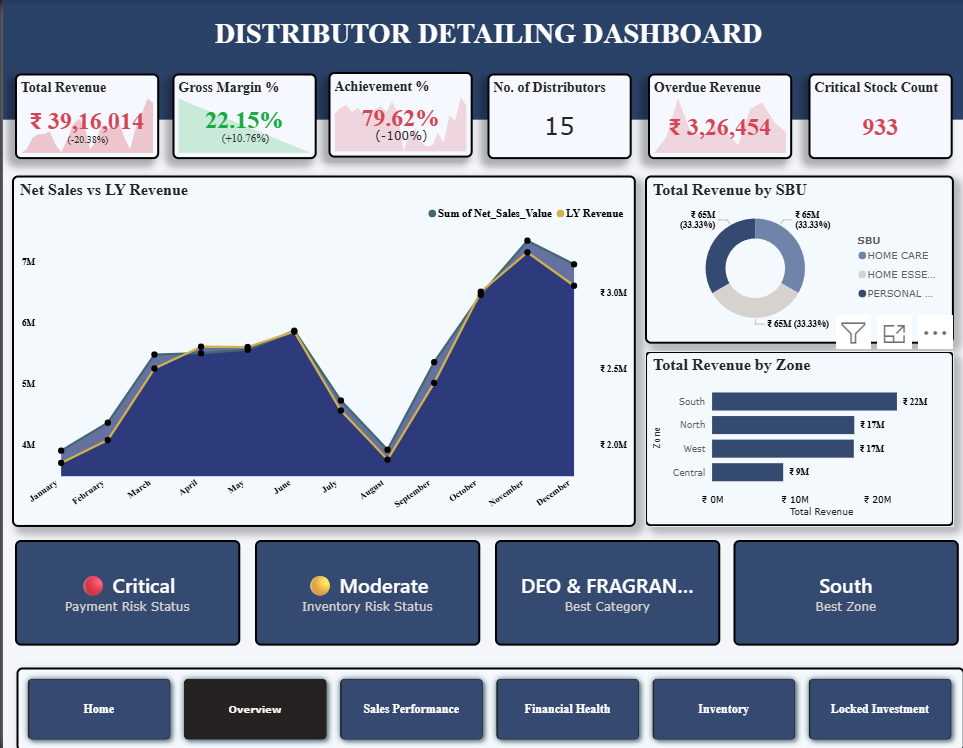

The dashboard page shown, as its layout file describes it:
{"tool":"powerbi","page":{"name":"Overview","canvas":[1280,1000],"ordinal":1},"visuals":[{"type":"textbox","box":[15.5,12.4,572.3,52.7],"z":0},{"type":"cardVisual","fields":{"Data":["Live.Live Badge"]},"box":[1094.9,12.5,161.1,61],"z":1000},{"type":"slicer","fields":{"Values":["Distributor.Zone"]},"box":[735.2,14.1,168.9,64.1],"z":2000},{"type":"slicer","fields":{"Values":["Dim_Date.Quarter"]},"box":[915,12.5,168.9,64.1],"z":3000},{"type":"areaChart","title":"Net Sales vs LY Revenue","fields":{"Category":["Dim_Date.Date.Variation.Date Hierarchy.Month"],"Y":["Sum(Raw_Sales_Revenue.Net_Sales_Value)"],"Y2":["_Measures.LY Revenue"]},"box":[12.5,233.1,830.6,467.7],"z":4000},{"type":"donutChart","fields":{"Category":["Products.SBU"],"Y":["_Measures.Total Revenue"]},"box":[854,233.1,411.4,223.7],"z":5000},{"type":"pageNavigator","box":[17.6,888.2,1262.7,111.8],"z":6000},{"type":"cardVisual","fields":{"Data":["_Measures.Inventory Risk Alert"]},"box":[335,720,300.3,140.8],"z":7000},{"type":"cardVisual","fields":{"Data":["_Measures.Payment Alert"]},"box":[15,720,300.3,140.8],"z":8000},{"type":"cardVisual","fields":{"Data":["_Measures.Best Zone"]},"box":[972,720,300.3,140.8],"z":9000},{"type":"cardVisual","fields":{"Data":["_Measures.Best Category"]},"box":[656,720,300.3,140.8],"z":10000},{"type":"barChart","fields":{"Y":["_Measures.Total Revenue"],"Category":["Raw_Sales_Revenue.Zone"]},"box":[854,467.7,411.4,233.1],"z":11000},{"type":"shape","box":[12.5,0,1249.8,92.3],"z":12000},{"type":"textbox","box":[17.7,13.8,873.9,78.7],"z":13000},{"type":"slicer","fields":{"Values":["Distirbutor.Distributor_Code"]},"box":[1094.9,14.1,184.6,65.7],"z":14000},{"type":"slicer","fields":{"Values":["Dim_Date.Date.Variation.Date Hierarchy.Month"]},"box":[915,14.1,184.6,65.7],"z":15000},{"type":"textbox","box":[0,0,1279.3,159.4],"z":16000},{"type":"kpi","title":"Total Revenue","fields":{"Indicator":["_Measures.Total Revenue"],"TrendLine":["Dim_Date.Date"],"Goal":["_Measures.Total Target"]},"box":[15.6,98,192,114],"z":17000},{"type":"kpi","title":"Gross Margin %","fields":{"Indicator":["_Measures.Gross Margin %"],"Goal":["_Measures.Target Margin"],"TrendLine":["Dim_Date.Date.Variation.Date Hierarchy.Year"]},"box":[225,98,192,114],"z":18000},{"type":"kpi","title":"Achievement %","fields":{"Indicator":["_Measures.Achievement %"],"TrendLine":["Dim_Date.Date"],"Goal":["_Measures.Total Target"]},"box":[434,95,192,114.2],"z":19000},{"type":"kpi","title":"No. of Distributors","fields":{"Indicator":["_Measures.Active Distributors"],"TrendLine":["Dim_Date.Date.Variation.Date Hierarchy.Month"]},"box":[645,98,192,114.2],"z":20000},{"type":"kpi","title":"Overdue Revenue","fields":{"Indicator":["_Measures.Overdue Revenue"],"TrendLine":["Dim_Date.Date.Variation.Date Hierarchy.Month"],"Goal":["_Measures.Overdue Target"]},"box":[858.7,98,192,114.2],"z":21000},{"type":"kpi","title":"Critical Stock Count ","fields":{"Indicator":["_Measures.Critical Stock Count"],"TrendLine":["Dim_Date.Date.Variation.Date Hierarchy.Month"],"Goal":["_Measures.Overdue Target"]},"box":[1073,98,192,114.2],"z":22000},{"type":"textbox","box":[242.3,1.9,809.6,92.3],"z":23000}]}

Visuals, with their boxes in screenshot pixels (x1, y1, x2, y2), scaled from the page's 1280x1000 canvas onto the 963x748 screenshot:
textbox: [left=12, top=9, right=442, bottom=49]
cardVisual - Live.Live Badge: [left=824, top=9, right=945, bottom=55]
slicer - Distributor.Zone: [left=553, top=11, right=680, bottom=58]
slicer - Dim_Date.Quarter: [left=688, top=9, right=815, bottom=57]
"Net Sales vs LY Revenue" areaChart: [left=9, top=174, right=634, bottom=524]
donutChart - Products.SBU x _Measures.Total Revenue: [left=643, top=174, right=952, bottom=342]
pageNavigator: [left=13, top=664, right=962, bottom=747]
cardVisual - _Measures.Inventory Risk Alert: [left=252, top=539, right=478, bottom=644]
cardVisual - _Measures.Payment Alert: [left=11, top=539, right=237, bottom=644]
cardVisual - _Measures.Best Zone: [left=731, top=539, right=957, bottom=644]
cardVisual - _Measures.Best Category: [left=494, top=539, right=719, bottom=644]
barChart - _Measures.Total Revenue x Raw_Sales_Revenue.Zone: [left=643, top=350, right=952, bottom=524]
shape: [left=9, top=0, right=950, bottom=69]
textbox: [left=13, top=10, right=671, bottom=69]
slicer - Distirbutor.Distributor_Code: [left=824, top=11, right=962, bottom=60]
slicer - Dim_Date.Date.Variation.Date Hierarchy.Month: [left=688, top=11, right=827, bottom=60]
textbox: [left=0, top=0, right=962, bottom=119]
"Total Revenue" kpi: [left=12, top=73, right=156, bottom=159]
"Gross Margin %" kpi: [left=169, top=73, right=314, bottom=159]
"Achievement %" kpi: [left=327, top=71, right=471, bottom=156]
"No. of Distributors" kpi: [left=485, top=73, right=630, bottom=159]
"Overdue Revenue" kpi: [left=646, top=73, right=790, bottom=159]
"Critical Stock Count " kpi: [left=807, top=73, right=952, bottom=159]
textbox: [left=182, top=1, right=791, bottom=70]
